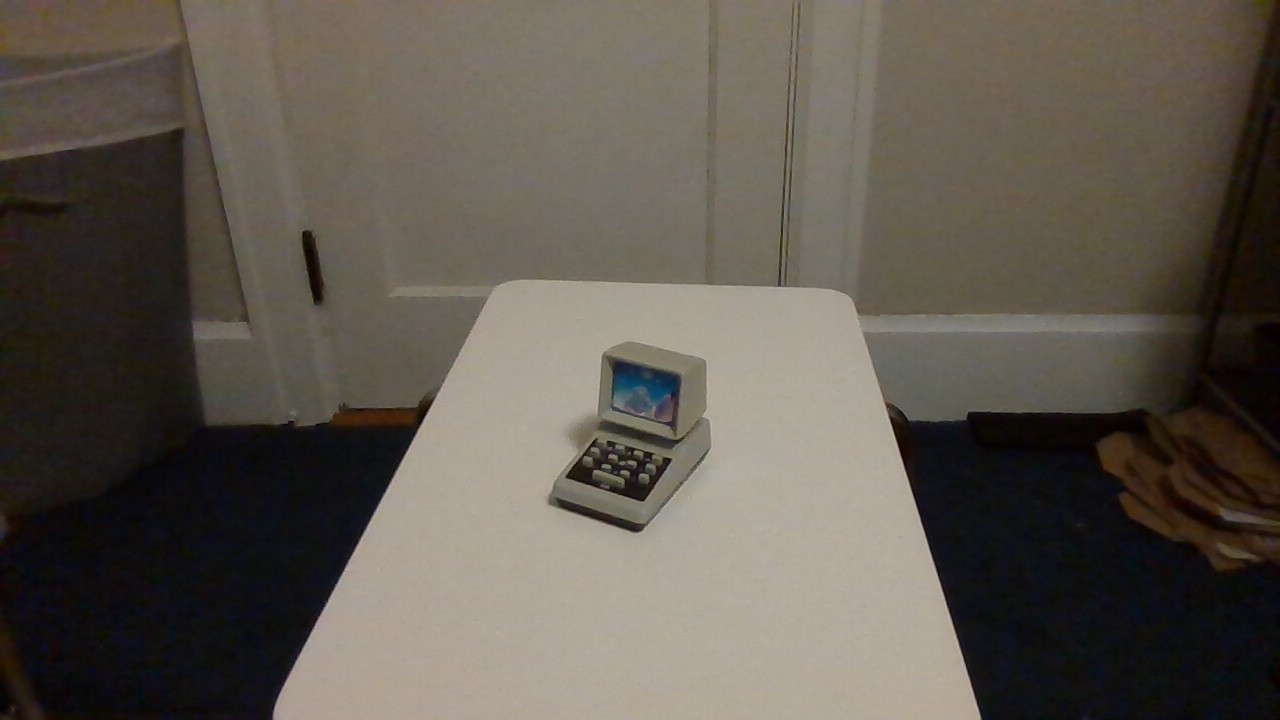Toy: (540, 328, 738, 548)
